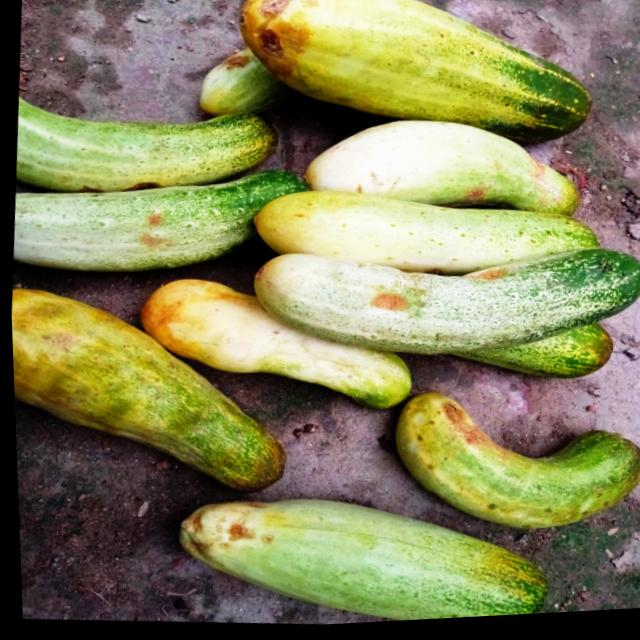Belly-Rot: (209, 0, 336, 91), (177, 495, 278, 571), (432, 399, 497, 466), (521, 161, 565, 211), (134, 208, 169, 254), (362, 292, 409, 320), (466, 265, 511, 292), (45, 328, 76, 355), (461, 186, 486, 211)
